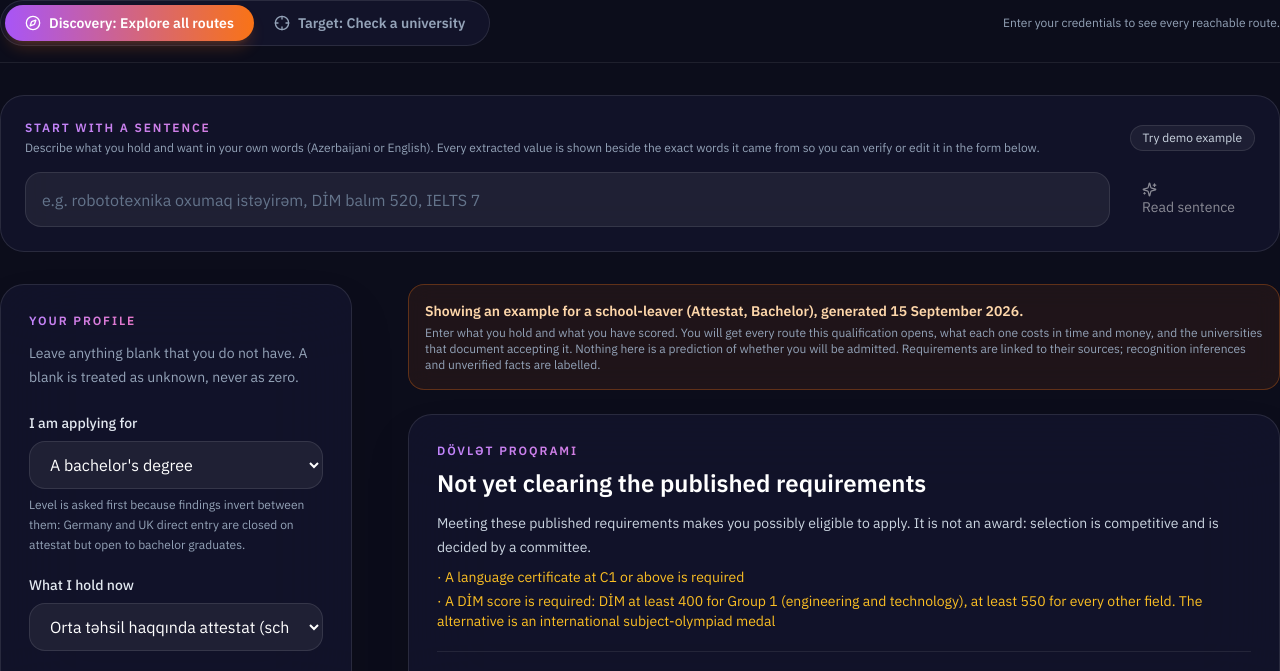
it: RoutePlanner › displays still_needed and conflict notes when the parsed sentence is incomplete or ambiguous (D5)
The width and height of the screenshot is (1280, 671).
In the field named "Describe your profile in a sentence": (568, 200) [25,172,1110,227], type "IELTS 6.5, bachelor or master"
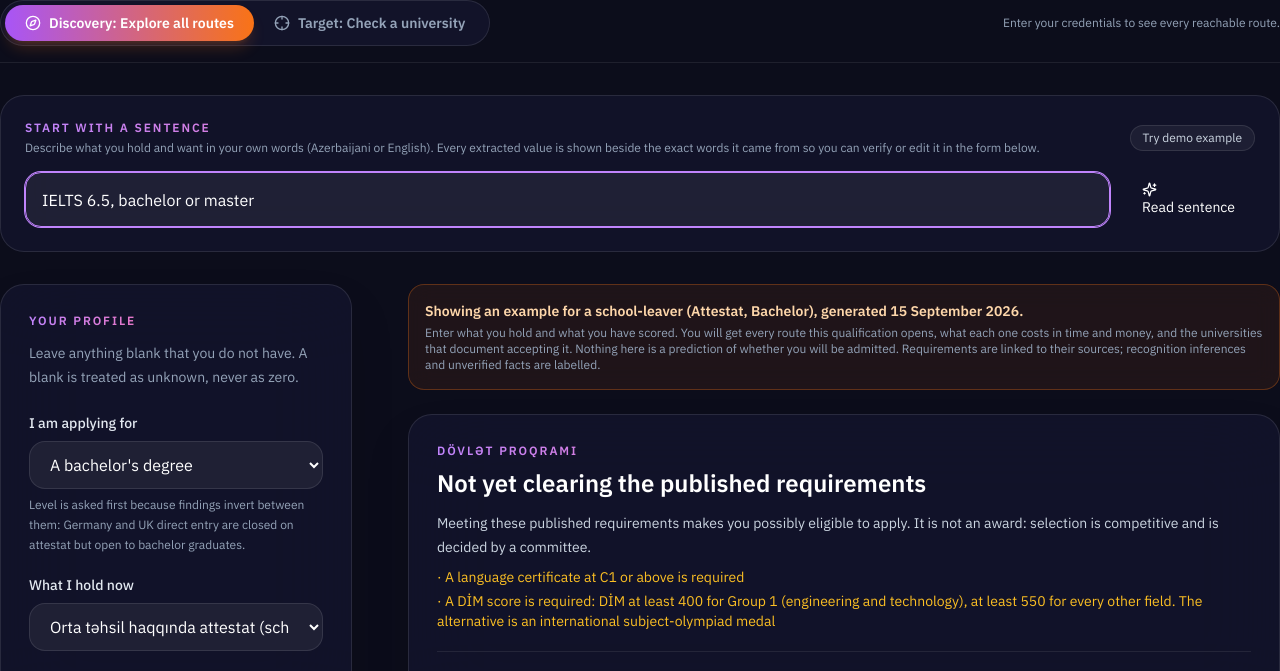
Click the button "Read sentence": (1189, 200) [1122,172,1255,227]
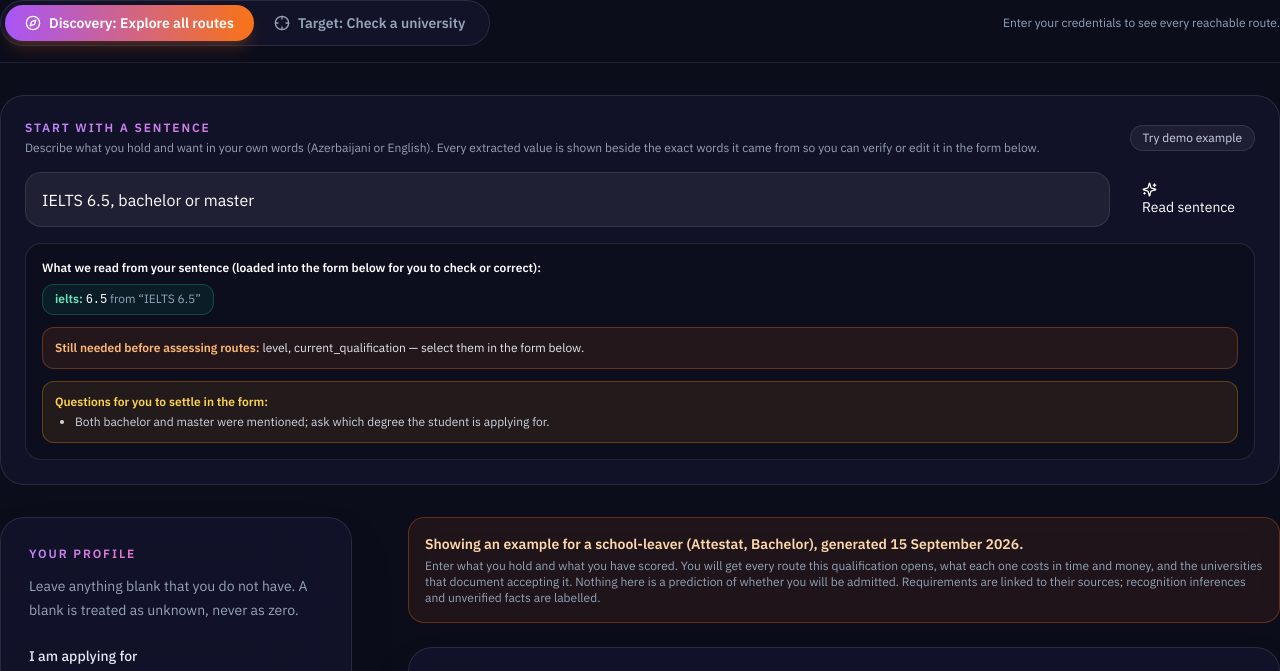
Expected: the text "Still needed before assessing routes:" is shown, [55,340,262,355]
Expected: the text "level, current_qualification — select them in the form below." is shown, [42,327,1238,369]
Expected: the list item "Both bachelor and master were mentioned" is shown, [75,414,550,429]
